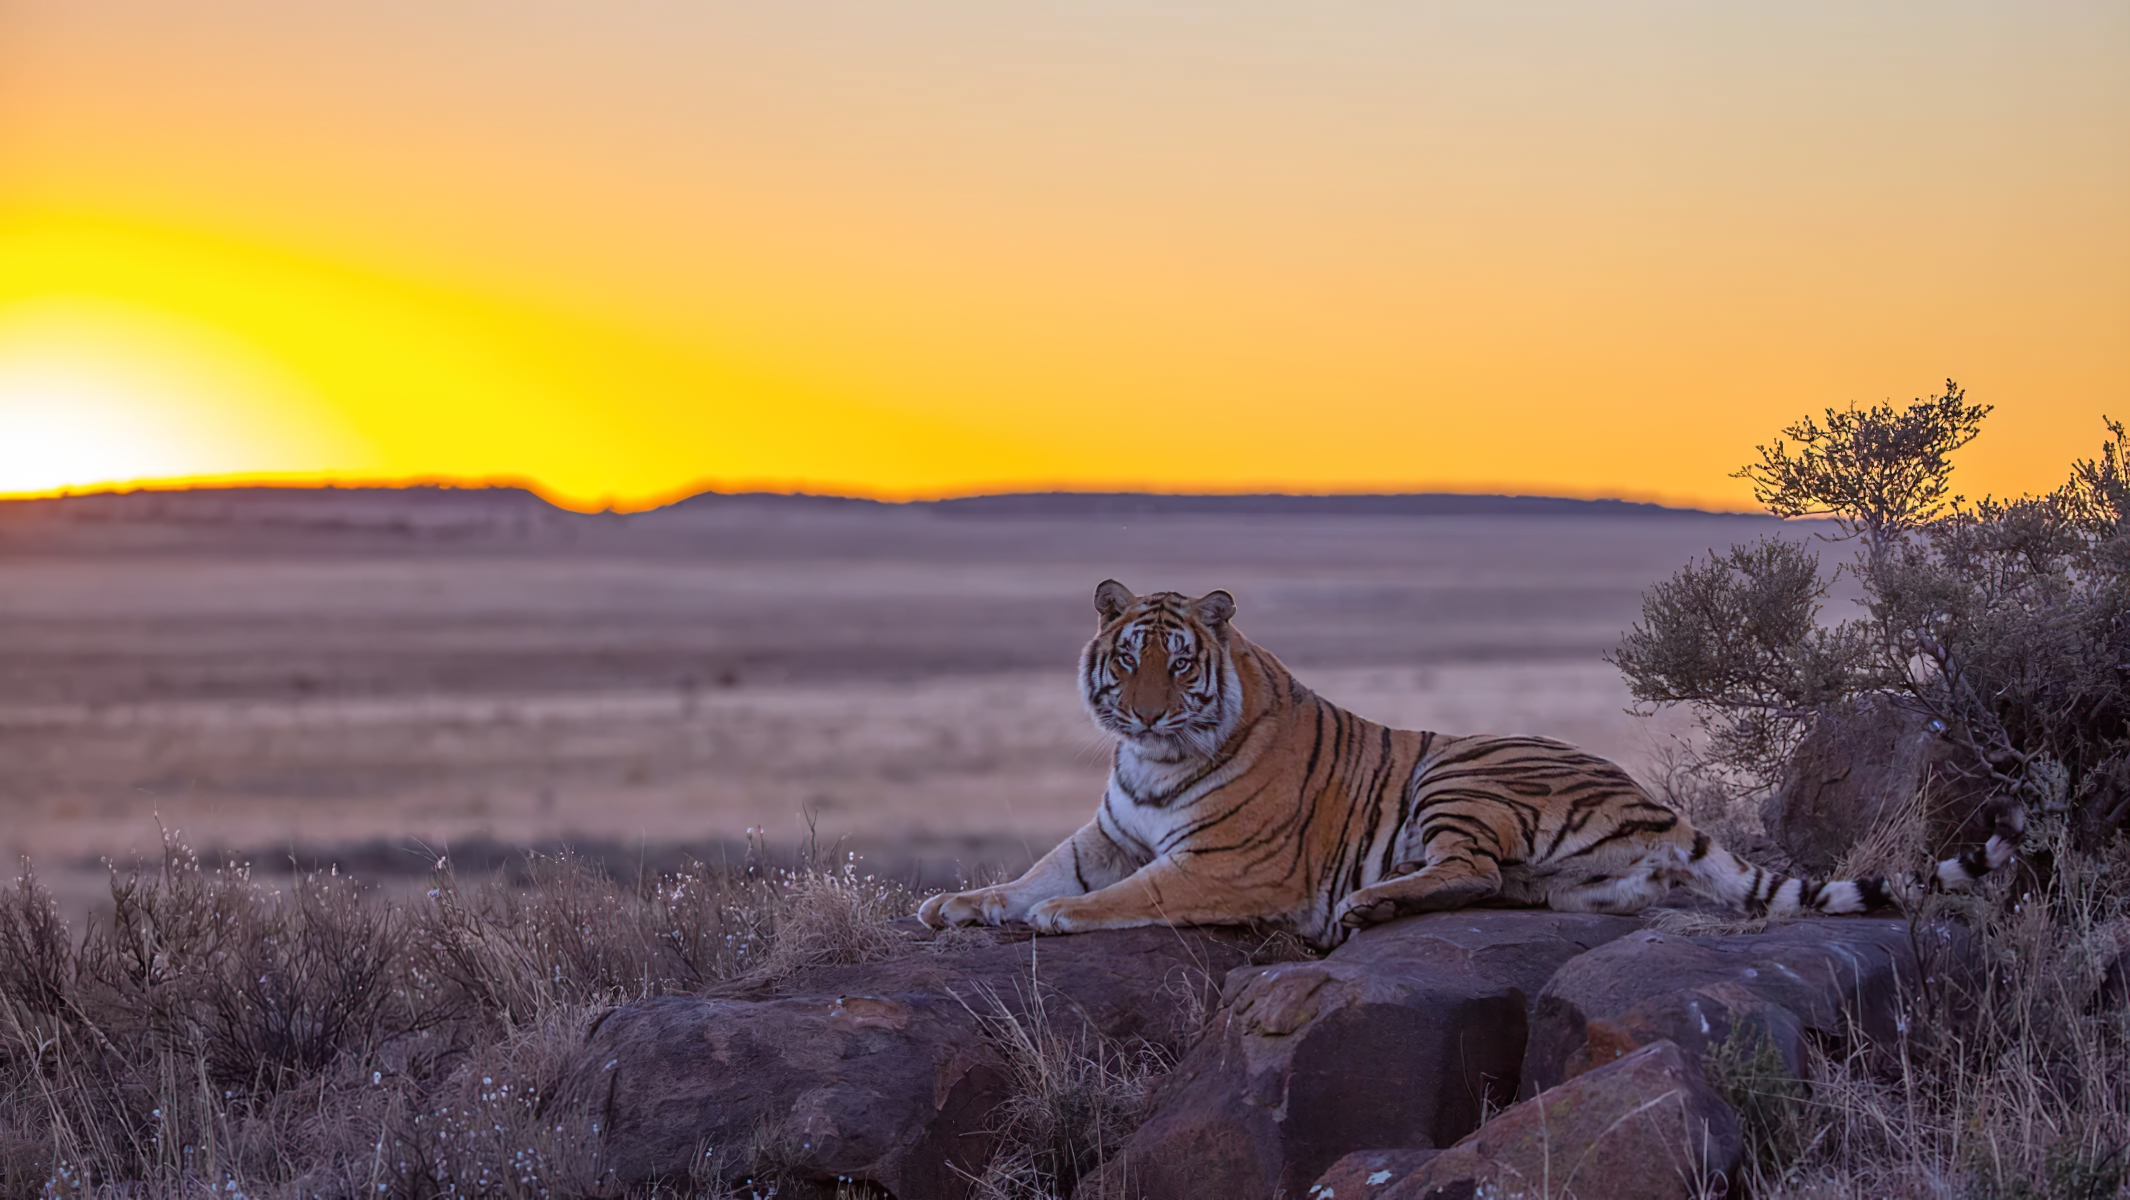tiger: (936, 547, 2028, 1000)
